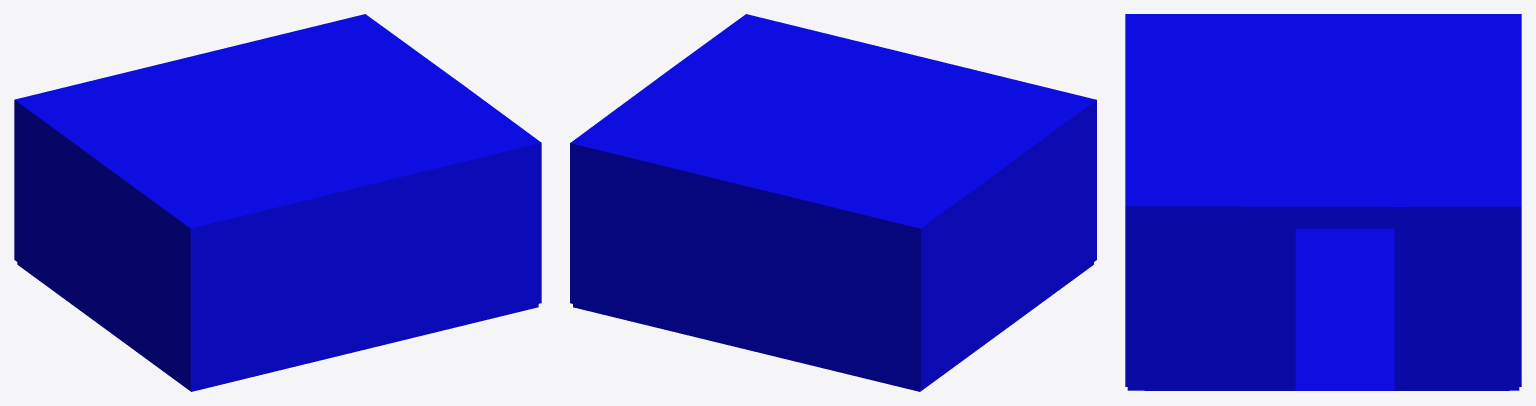
File: Swich_Base.fbx
The picture shows the model from 3 angles, left to right: view 1: azimuth 30°, elevation 25°; view 2: azimuth 150°, elevation 25°; view 3: azimuth 270°, elevation 25°; orthographic projection. The views are drawn at different scales.
Parts seen in each view (by area): view 1: Room_Out; view 2: Room_Out; view 3: Room_Out.
Part boxes in pixels (<box>): Room_Out: <box>14,14,541,391</box>; Room_Out: <box>570,14,1096,391</box>; Room_Out: <box>1125,14,1521,390</box>.
Size of the model in its own units: 584 by 262 by 507.
